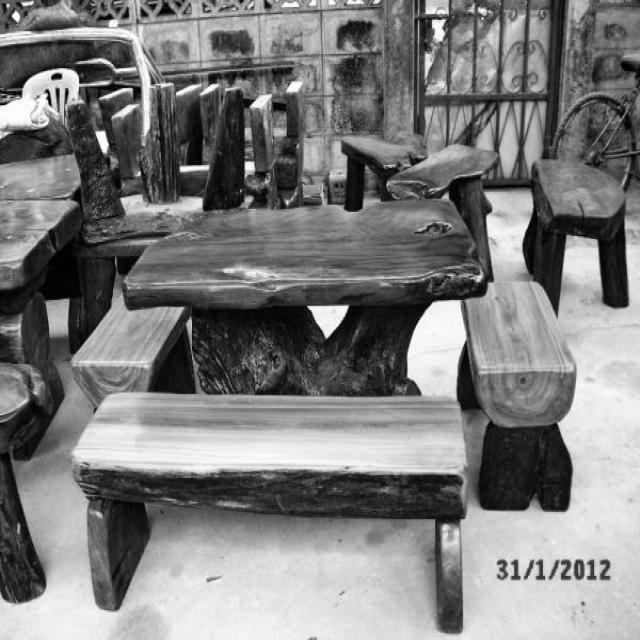table: (115, 191, 504, 350)
